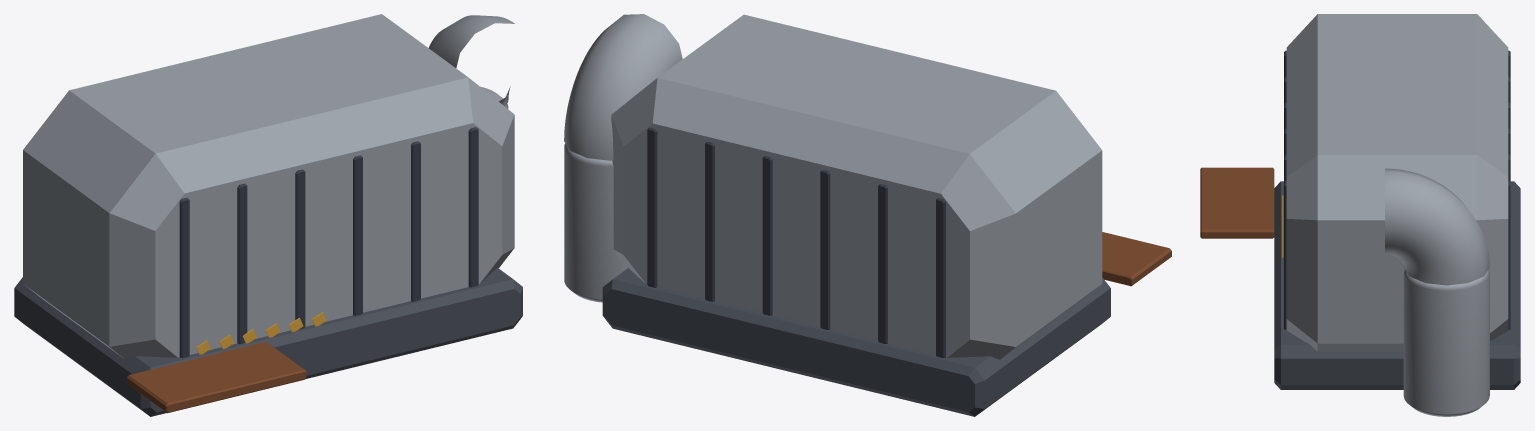
The model's file is spire_hvac.glb.
3 views of the same model, side by side, from view 1: azimuth 30°, elevation 25°; view 2: azimuth 150°, elevation 25°; view 3: azimuth 270°, elevation 25° (orthographic). The views are drawn at different scales.
Parts seen in each view (by area): view 1: hvac_body, hvac_frame, hvac_tray, hvac_duct_elbow, hvac_rib5, hvac_rib0, hvac_rib1, hvac_rib2, hvac_rib3, hvac_rib4, hvac_panel_hazard; view 2: hvac_body, hvac_frame, hvac_duct_elbow, hvac_duct, hvac_tray, hvac_rib5, hvac_rib2, hvac_rib3, hvac_rib4, hvac_rib1, hvac_rib0; view 3: hvac_body, hvac_duct, hvac_frame, hvac_duct_elbow, hvac_tray, hvac_rib5.
Part boxes in pixels (x1,y1,x2,y2): hvac_body: [23, 14, 514, 359]; hvac_frame: [14, 268, 522, 416]; hvac_tray: [127, 341, 306, 413]; hvac_duct_elbow: [429, 15, 514, 106]; hvac_rib5: [468, 127, 478, 287]; hvac_rib0: [179, 197, 189, 357]; hvac_rib1: [237, 183, 247, 343]; hvac_rib2: [295, 169, 305, 329]; hvac_rib3: [353, 155, 362, 315]; hvac_rib4: [411, 141, 420, 301]; hvac_panel_hazard: [196, 312, 326, 354]; hvac_body: [611, 14, 1102, 359]; hvac_frame: [602, 268, 1110, 416]; hvac_duct_elbow: [564, 14, 682, 160]; hvac_duct: [564, 143, 626, 302]; hvac_tray: [1102, 232, 1171, 286]; hvac_rib5: [647, 127, 657, 287]; hvac_rib2: [820, 170, 830, 329]; hvac_rib3: [762, 155, 772, 315]; hvac_rib4: [705, 141, 714, 301]; hvac_rib1: [878, 184, 887, 343]; hvac_rib0: [936, 198, 945, 357]; hvac_body: [1286, 14, 1508, 351]; hvac_duct: [1403, 269, 1489, 416]; hvac_frame: [1274, 181, 1520, 389]; hvac_duct_elbow: [1385, 168, 1489, 285]; hvac_tray: [1200, 167, 1274, 238]; hvac_rib5: [1284, 180, 1510, 329].
Size of the model in its own units: 4.06 by 2.1 by 2.6.
